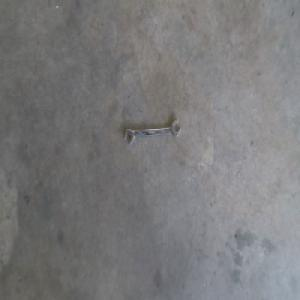Wrench: (124, 118, 185, 146)
